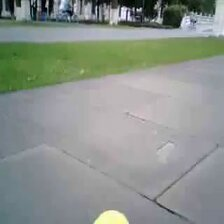tennis: (94, 210, 130, 224)
